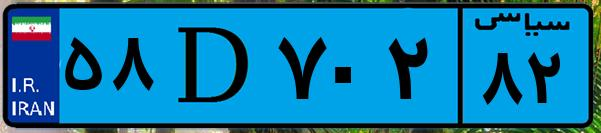0: (330, 28, 385, 110)
2: (385, 28, 445, 110), (525, 38, 570, 115)
5: (57, 26, 110, 100)
7: (270, 28, 330, 110)
8: (475, 38, 525, 113), (110, 28, 158, 98)
D: (158, 12, 270, 120)
